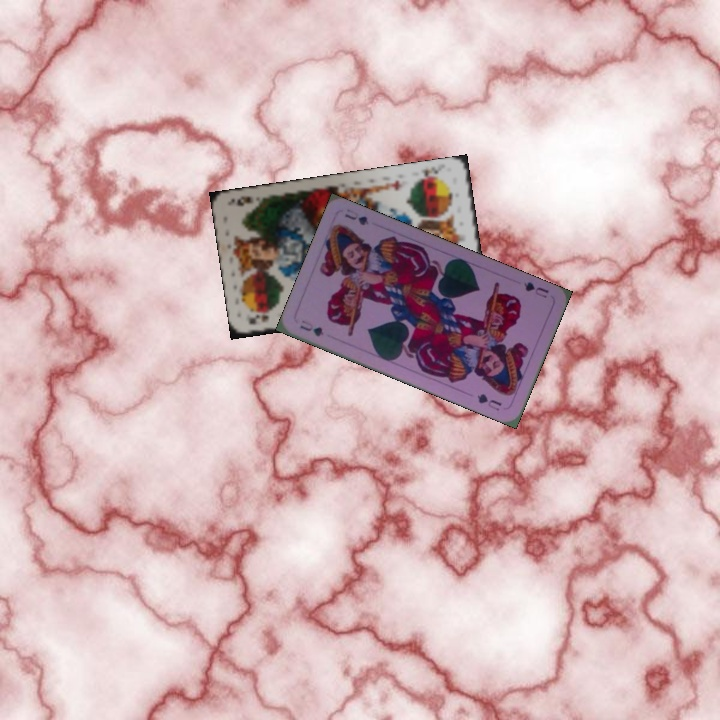GU: (520, 278, 551, 301), (296, 316, 326, 339)
SK: (418, 162, 446, 180), (245, 310, 272, 328)
